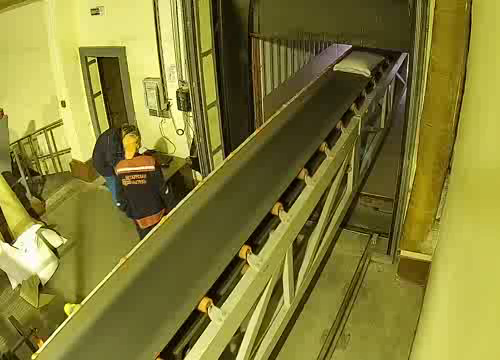bag: (332, 48, 387, 79)
